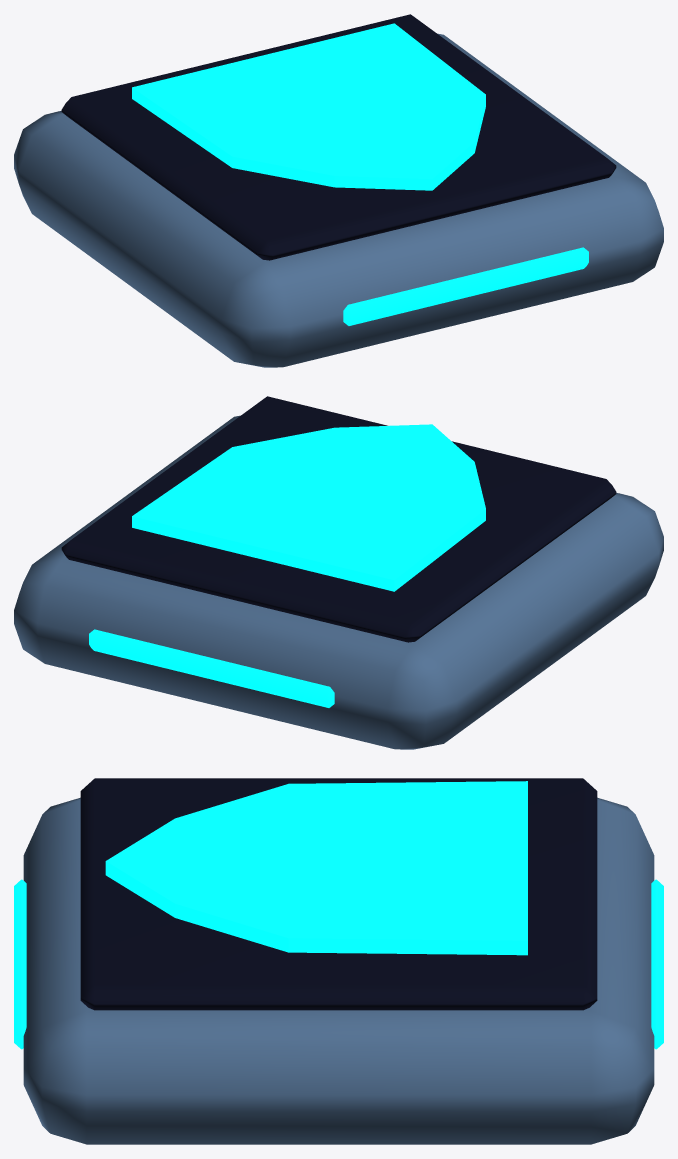
File: NT_Pickup_Shield.fbx
The picture shows the model from 3 angles, top to bottom: view 1: azimuth 30°, elevation 25°; view 2: azimuth 150°, elevation 25°; view 3: azimuth 270°, elevation 25°; orthographic projection. The views are drawn at different scales.
Visible parts, largest first — view 1: NT_Pickup_Shield__PickupMesh; view 2: NT_Pickup_Shield__PickupMesh; view 3: NT_Pickup_Shield__PickupMesh.
Part boxes in pixels (box(x1,y1,x2,y2)): NT_Pickup_Shield__PickupMesh: box(14, 14, 663, 367); NT_Pickup_Shield__PickupMesh: box(14, 396, 663, 749); NT_Pickup_Shield__PickupMesh: box(14, 778, 663, 1144).
Bounding box in the file's own units: 1 × 0.306 × 1.03.
